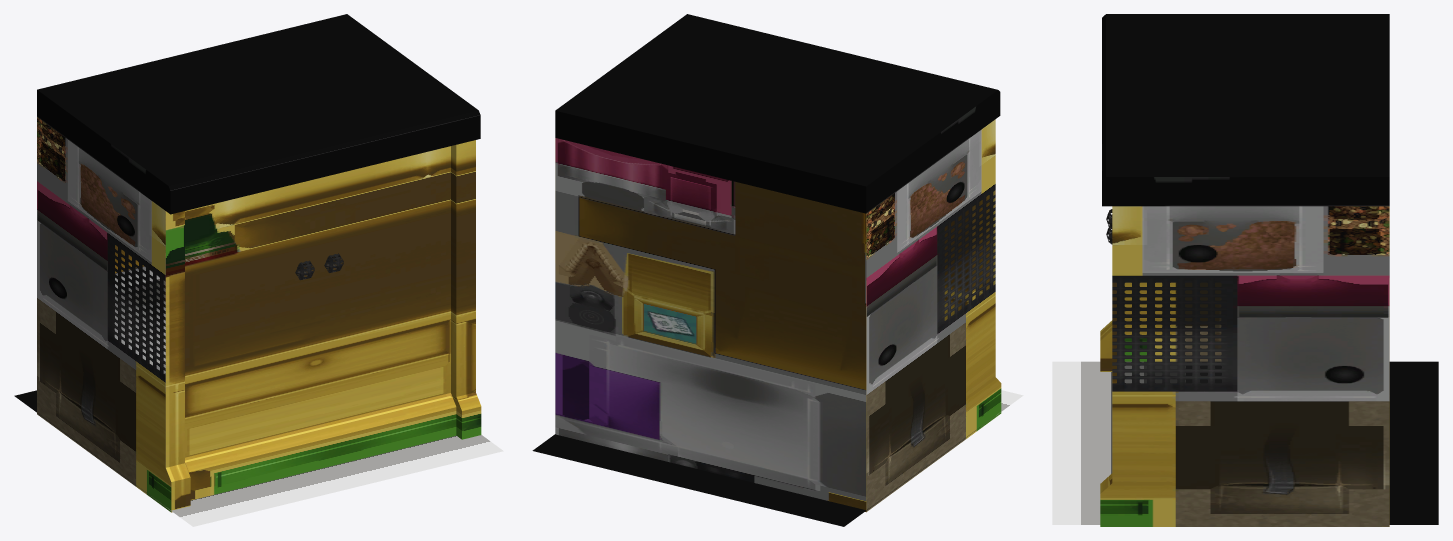
Rendered from encimera.obj.
3 views of the same model, side by side, from view 1: azimuth 30°, elevation 25°; view 2: azimuth 150°, elevation 25°; view 3: azimuth 270°, elevation 25° (orthographic). The views are drawn at different scales.
Visible parts, largest first — view 1: s4studio_mesh_0, s4studio_mesh_1, s4studio_mesh_2; view 2: s4studio_mesh_0, s4studio_mesh_1, s4studio_mesh_2; view 3: s4studio_mesh_0, s4studio_mesh_1, s4studio_mesh_2.
Part boxes in pixels (<box>): s4studio_mesh_0: <box>37,117,481,512</box>; s4studio_mesh_1: <box>37,14,480,214</box>; s4studio_mesh_2: <box>14,390,503,526</box>; s4studio_mesh_0: <box>555,119,1001,512</box>; s4studio_mesh_1: <box>555,14,1000,213</box>; s4studio_mesh_2: <box>532,390,1023,526</box>; s4studio_mesh_0: <box>1100,206,1389,526</box>; s4studio_mesh_1: <box>1102,14,1389,206</box>; s4studio_mesh_2: <box>1052,361,1438,524</box>.
Bounding box in the file's own units: 1 × 1 × 1.
